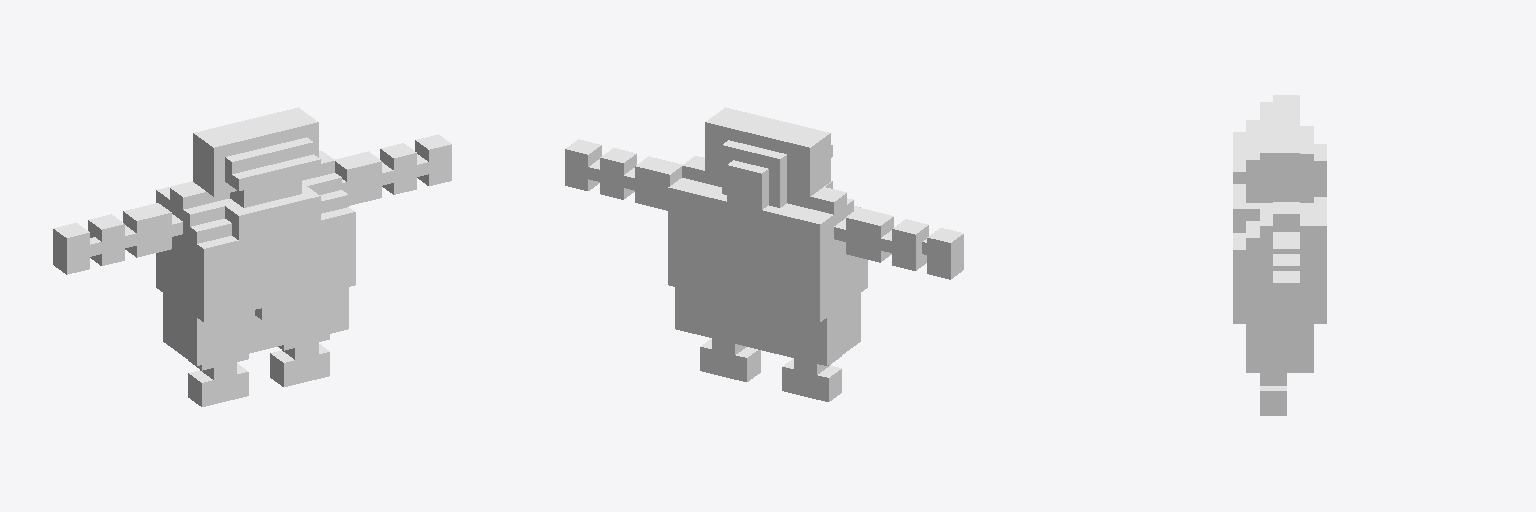
File: soldier-1.obj
3 renders of one model, left to right at view 1: azimuth 30°, elevation 25°; view 2: azimuth 150°, elevation 25°; view 3: azimuth 270°, elevation 25°, orthographic.
Parts seen in each view (by area): view 1: soldier-1; view 2: soldier-1; view 3: soldier-1.
Part boxes in pixels (x1,y1,x2,y2): soldier-1: (53, 107, 451, 406); soldier-1: (565, 107, 963, 401); soldier-1: (1233, 95, 1326, 415).
Bounding box in the file's own units: 33 × 21 × 7.